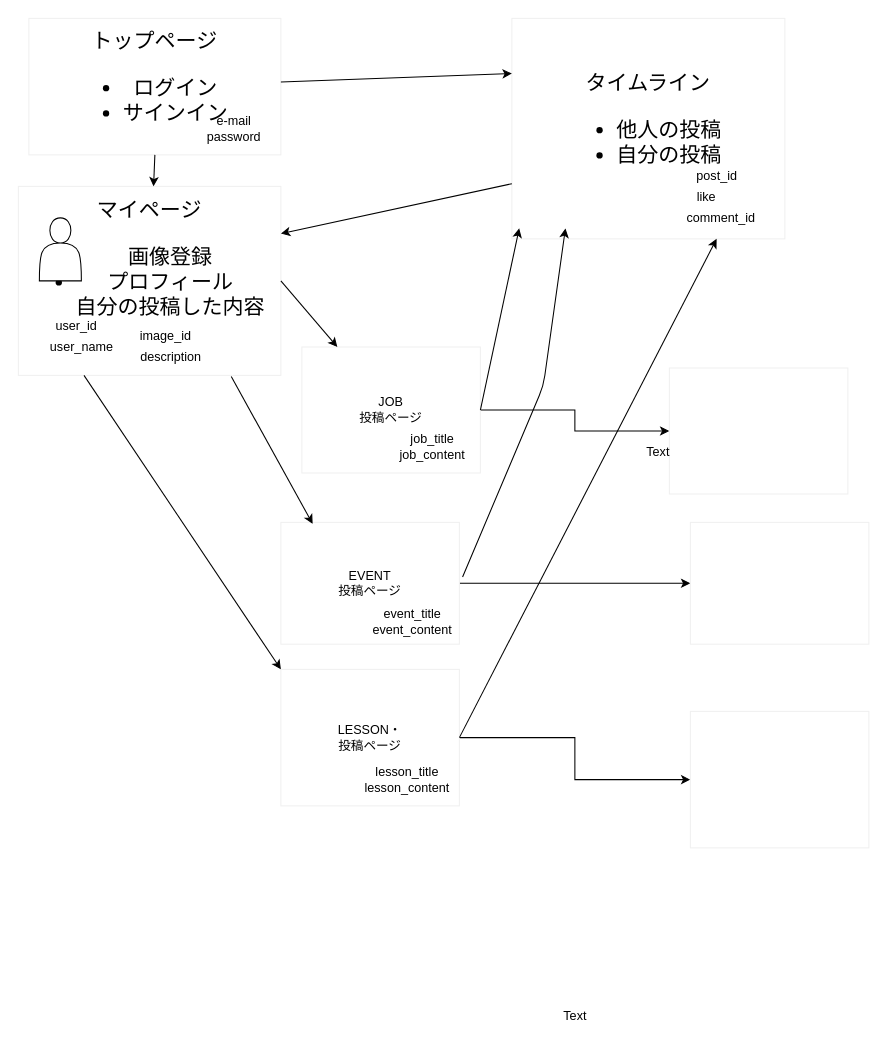
Image size: 887x1045. Some labels were removed from this diagram. The shapes that lost their labels are listed below. From the top down, each one's centre as x and y in pixels, then its label:
point (758, 430): JOB 一覧ページ
point (779, 582): EVENT 一覧ページ
point (779, 779): LESSON・ 一覧ページ
